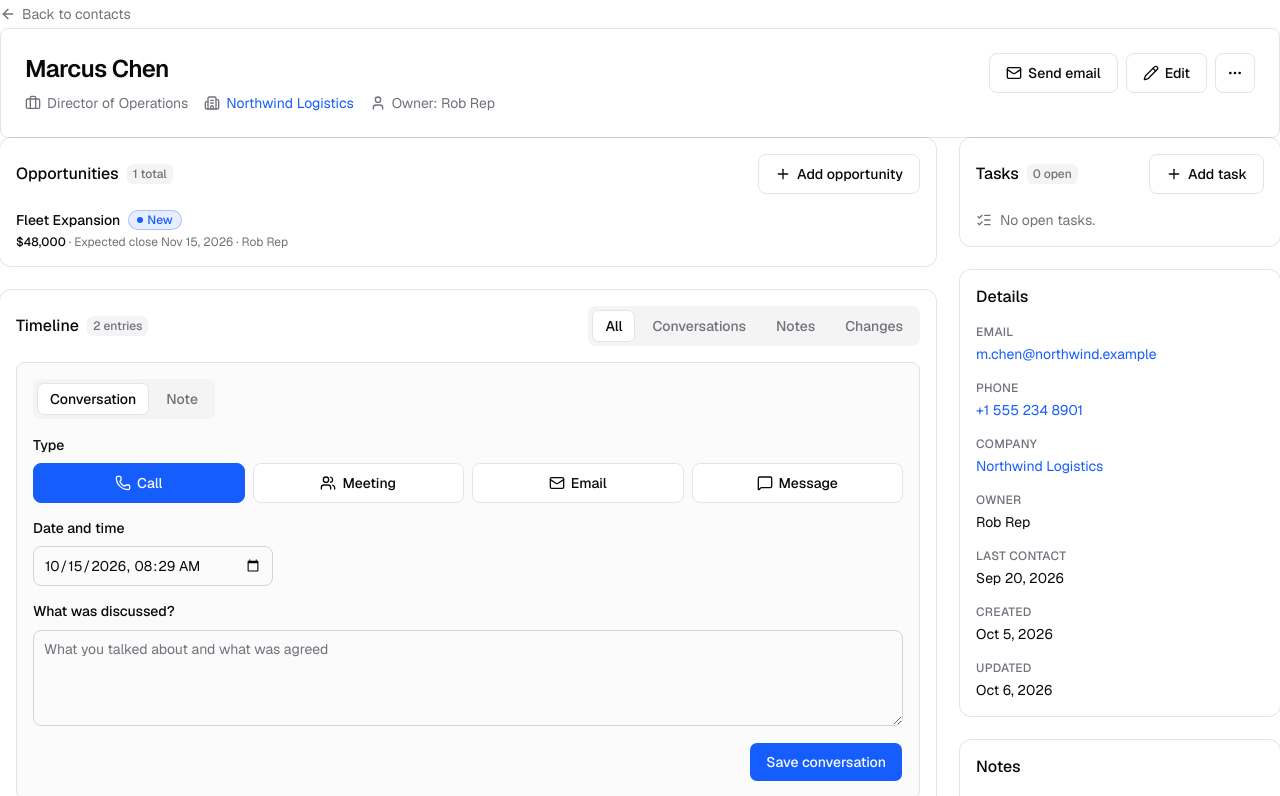
Test: ContactDetailPage › explains a refused delete in the dialog and stays on the page
Check: the heading "Marcus Chen" is shown, box top-left (25, 53), bottom-right (169, 85)
Check: the list named "Opportunities" is shown, box top-left (16, 210), bottom-right (288, 250)
Click the button named "More actions" at coordinates (1235, 73), box top-left (1215, 53), bottom-right (1255, 93)
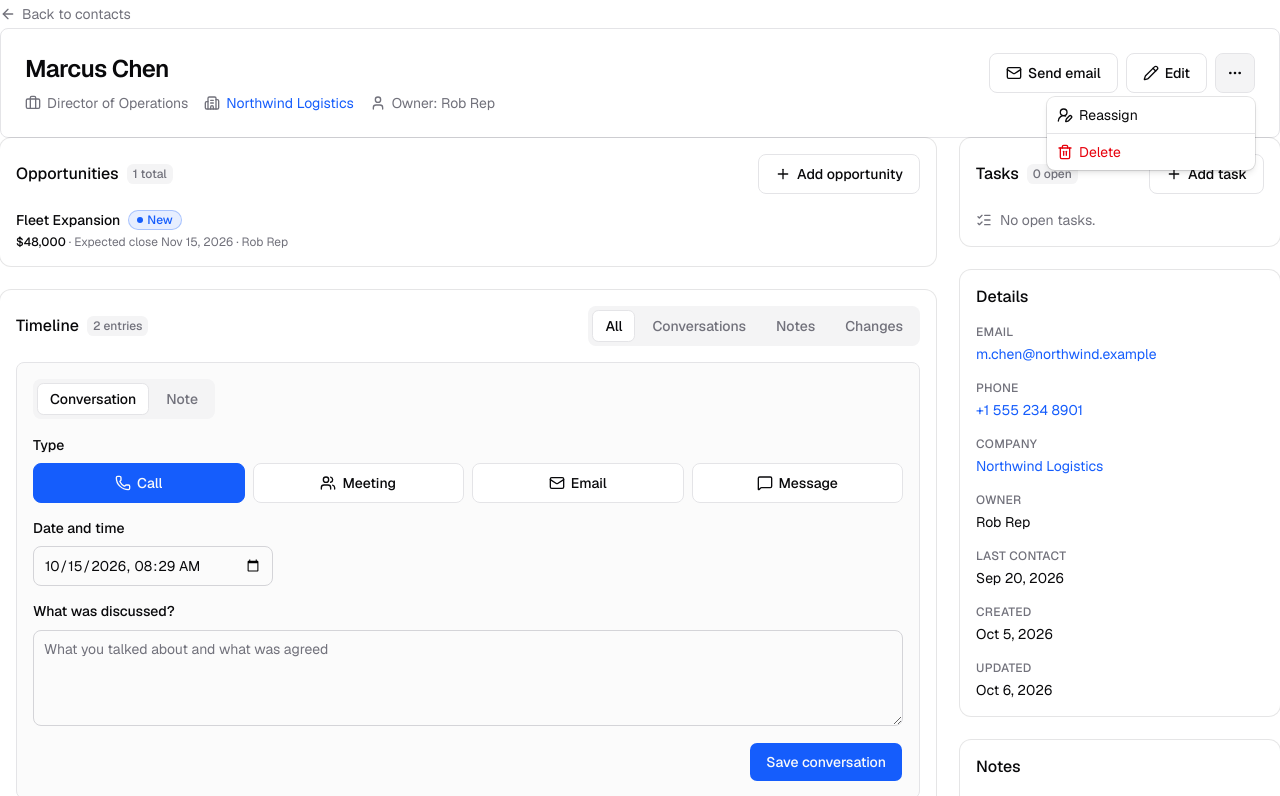
Click the menu item "Delete" at coordinates (1089, 152), box top-left (1057, 143), bottom-right (1121, 161)
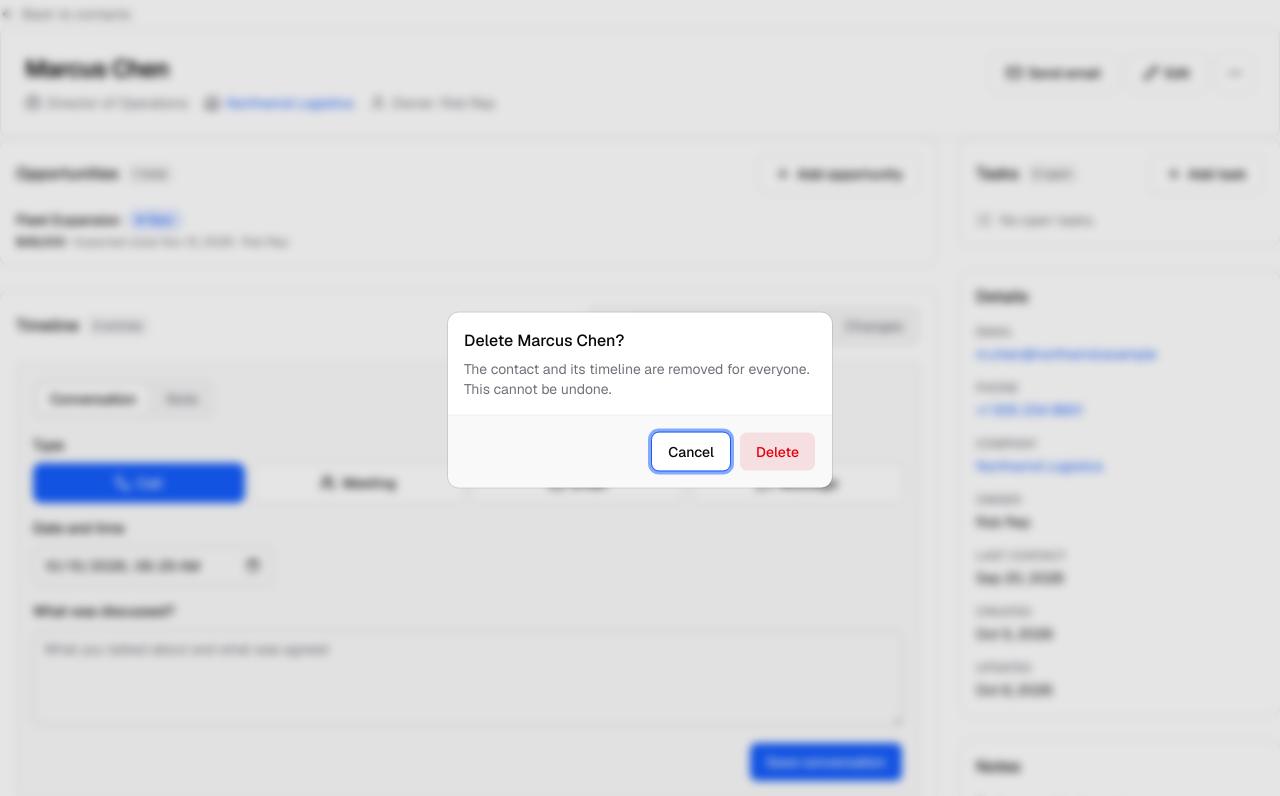
Click the button "Delete" at coordinates (777, 452), box top-left (739, 432), bottom-right (816, 472)
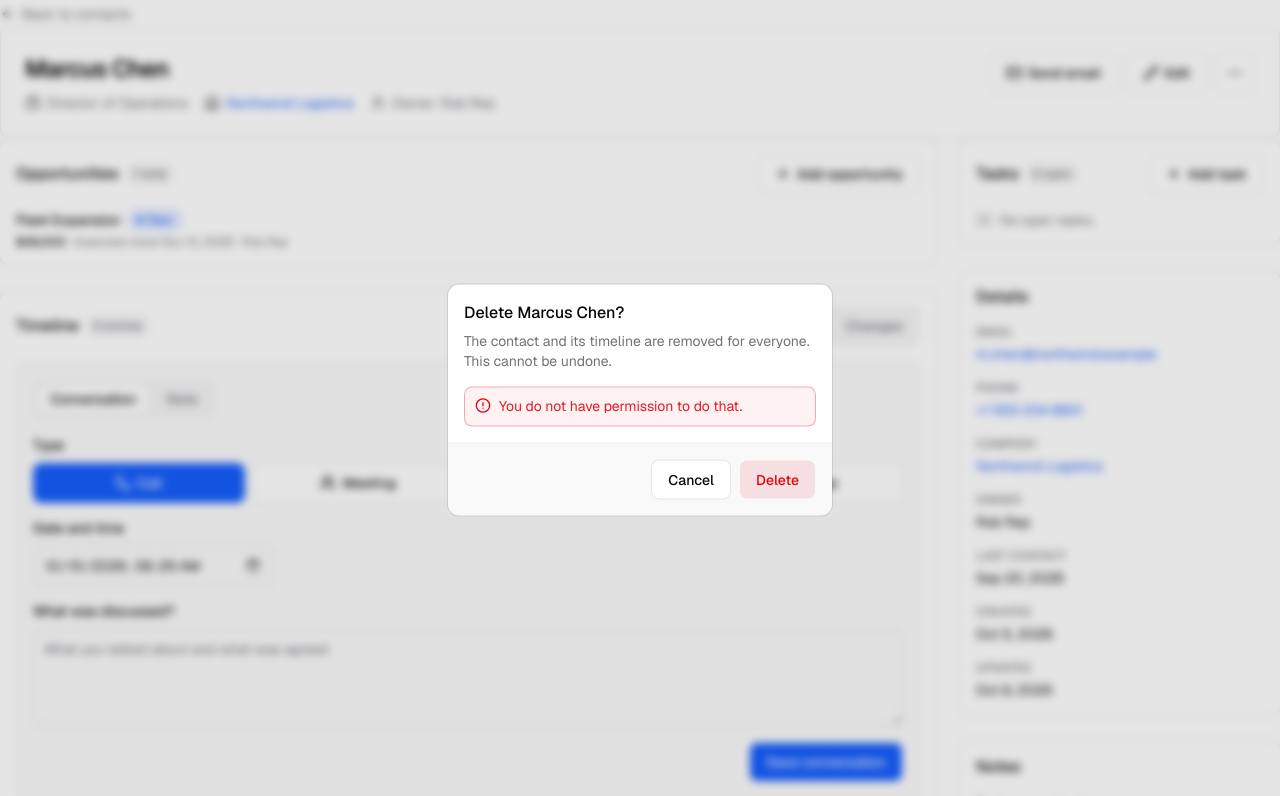
Check: the message reads "You do not have permission to do that.", box top-left (499, 396), bottom-right (742, 414)
